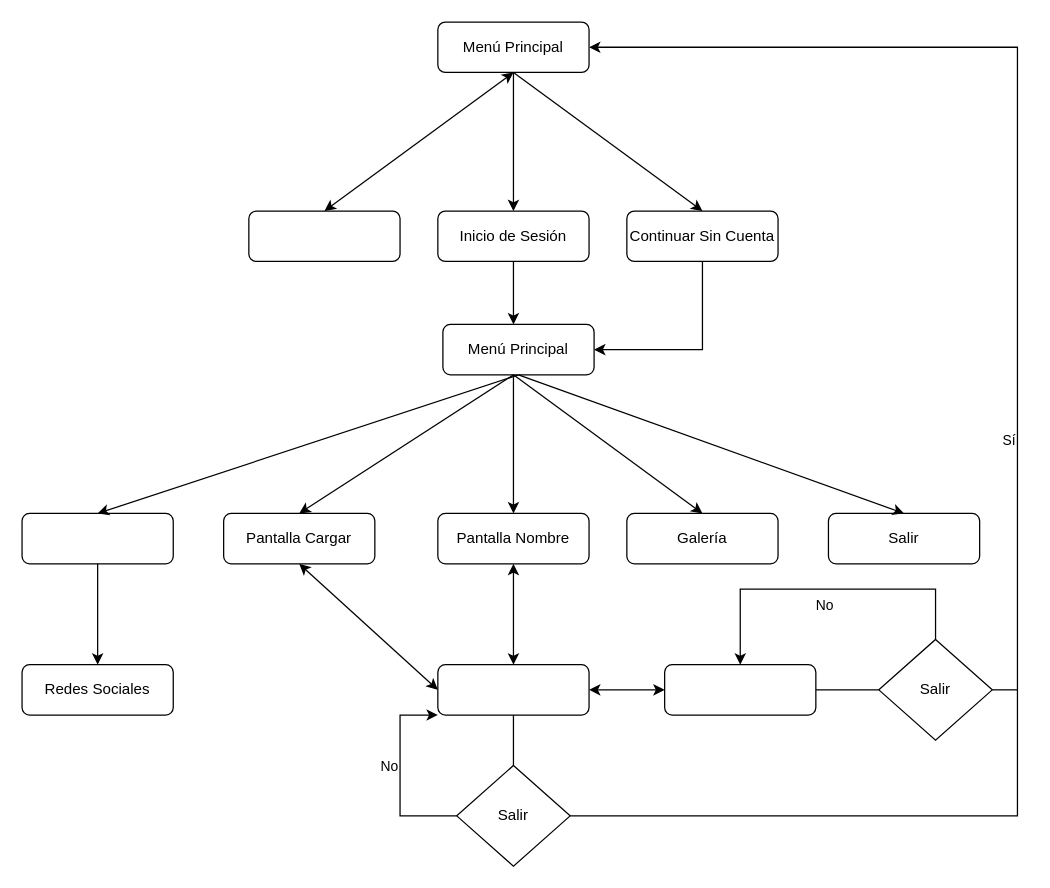
Some shapes in this 1050 by 888 pixel diagram are drawn without their labels. Each missing label, with the centre of its shape:
"Minijuego" goes at point 739,689.
"Pantalla Contacto" goes at point 97,538.
"Registro de Cuenta" goes at point 324,235.
"Visual Novel" goes at point 513,689.
